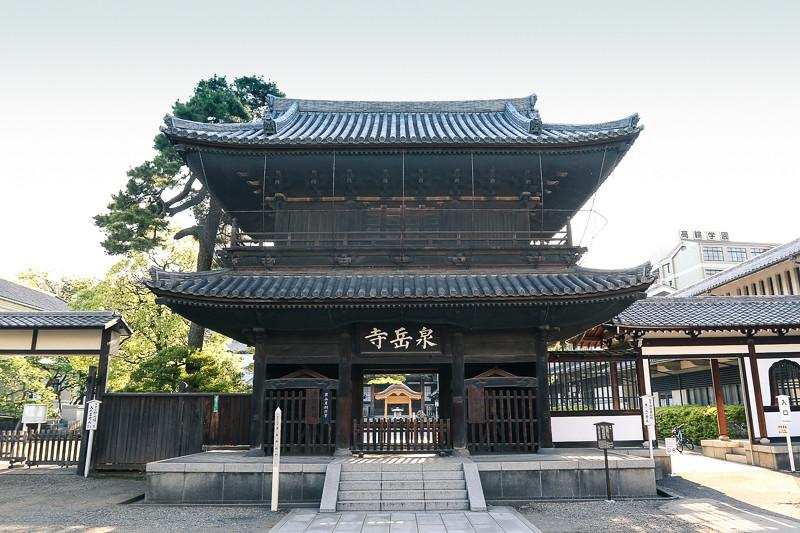temple: (140, 91, 660, 461)
